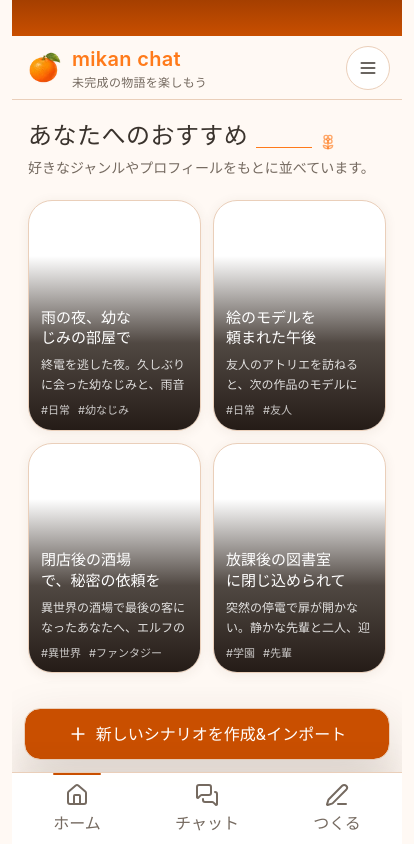
Scenario: mikan chat UI flow › スマホヘッダーの補助操作をハンバーガーメニューに格納する
Click the button named "メニューを開く".
click(368, 68)  # box top-left (346, 46), bottom-right (390, 90)
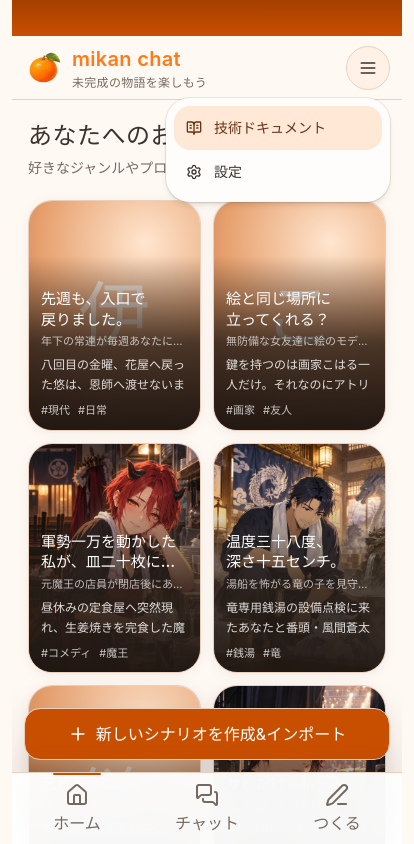
Result: the menu item "技術ドキュメント" is shown at top-left (174, 106), bottom-right (382, 150)
Result: the menu item "設定" is shown at top-left (186, 163), bottom-right (242, 180)
